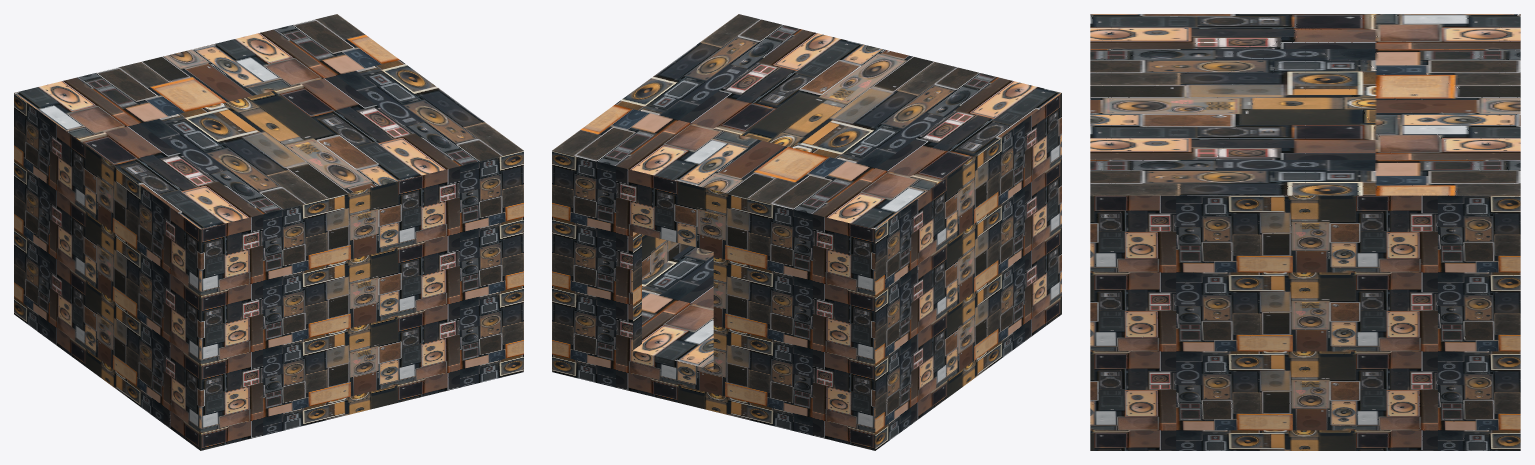
The model's file is Room.fbx.
3 views of the same model, side by side, from view 1: azimuth 30°, elevation 25°; view 2: azimuth 150°, elevation 25°; view 3: azimuth 270°, elevation 25° (orthographic). The views are drawn at different scales.
Visible parts, largest first — view 1: Cube.001; view 2: Cube.001; view 3: Cube.001.
Part boxes in pixels (x1,y1,x2,y2): Cube.001: (14,14,523,450); Cube.001: (552,14,1061,450); Cube.001: (1090,14,1520,450).
Size of the model in its own units: 2697 by 1766 by 2697.
